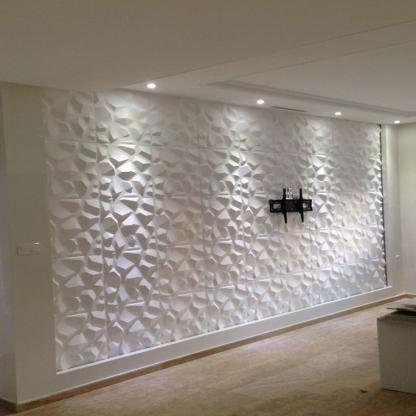Futech tiles: (87, 110, 275, 345)
